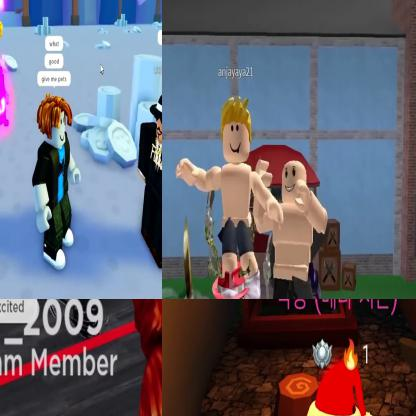Roblox-Avatar: (176, 97, 285, 299), (253, 159, 329, 299), (244, 360, 416, 416), (87, 300, 162, 416), (33, 94, 82, 271), (137, 84, 162, 270)
